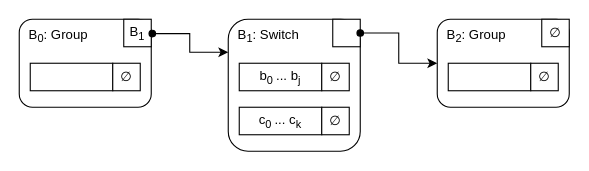
This 589x171 diagram has some shape labels left out. Each missing label, with the centre of its shape:
a 0 ... a i: pixel 71 76
B 2: pixel 346 32
d 0 ... d n: pixel 489 76
